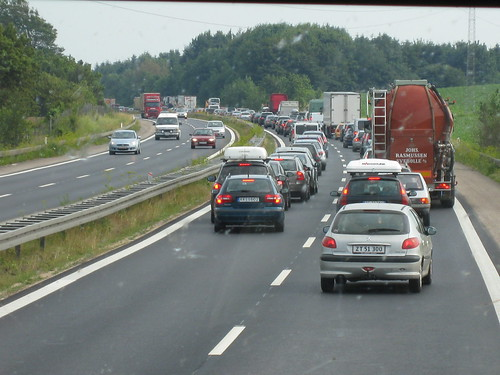car: (312, 198, 442, 295), (208, 172, 286, 236), (105, 124, 141, 158), (153, 111, 183, 142), (187, 125, 219, 149)
road: (1, 127, 482, 375)
truck: (368, 77, 452, 205)
vegetation: (127, 28, 498, 110), (1, 1, 104, 137)
